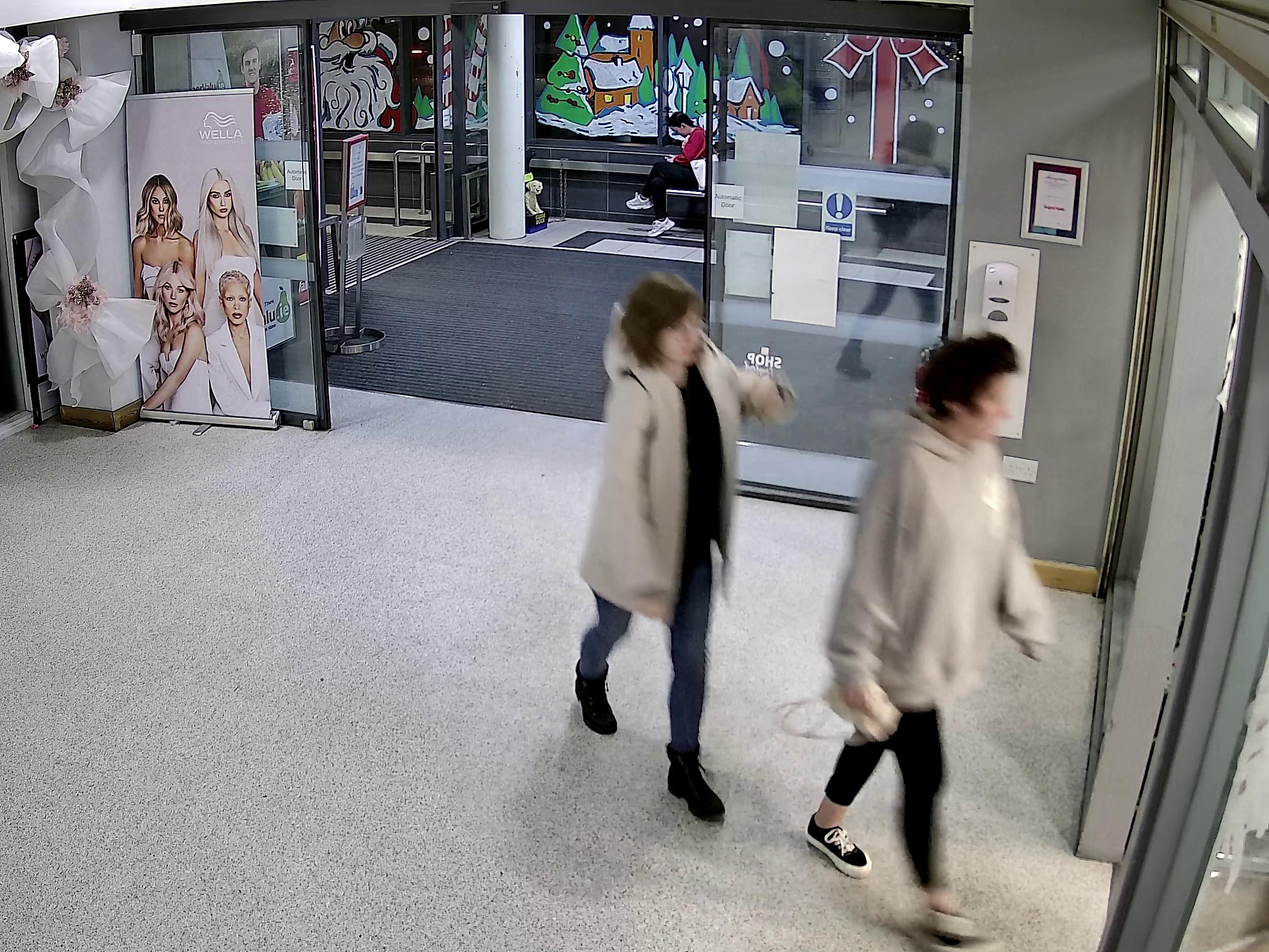empty-shopping-bags: (779, 675, 901, 753)
person: (805, 327, 1056, 952)
person-with-empty-shopping-bag-s-: (780, 326, 1055, 952)
